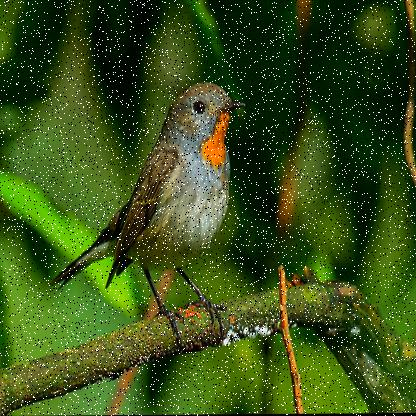Burung: (48, 81, 250, 342)
